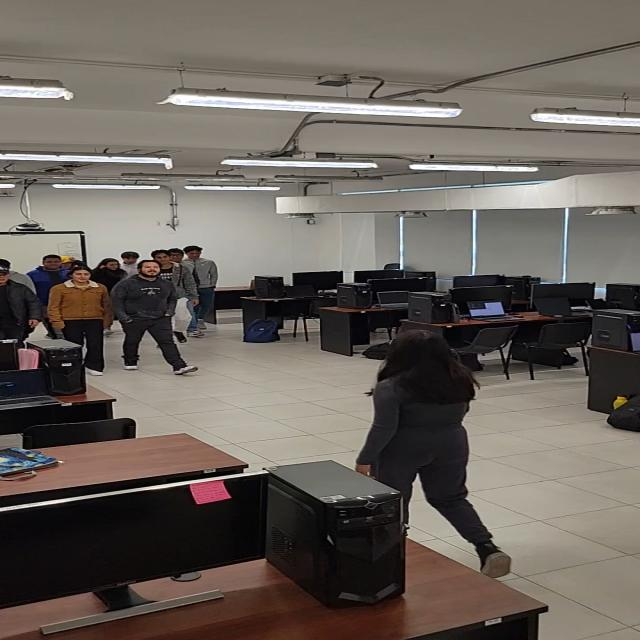Persona: (354, 327, 518, 578), (115, 260, 193, 384), (47, 265, 110, 374), (187, 243, 230, 335)
